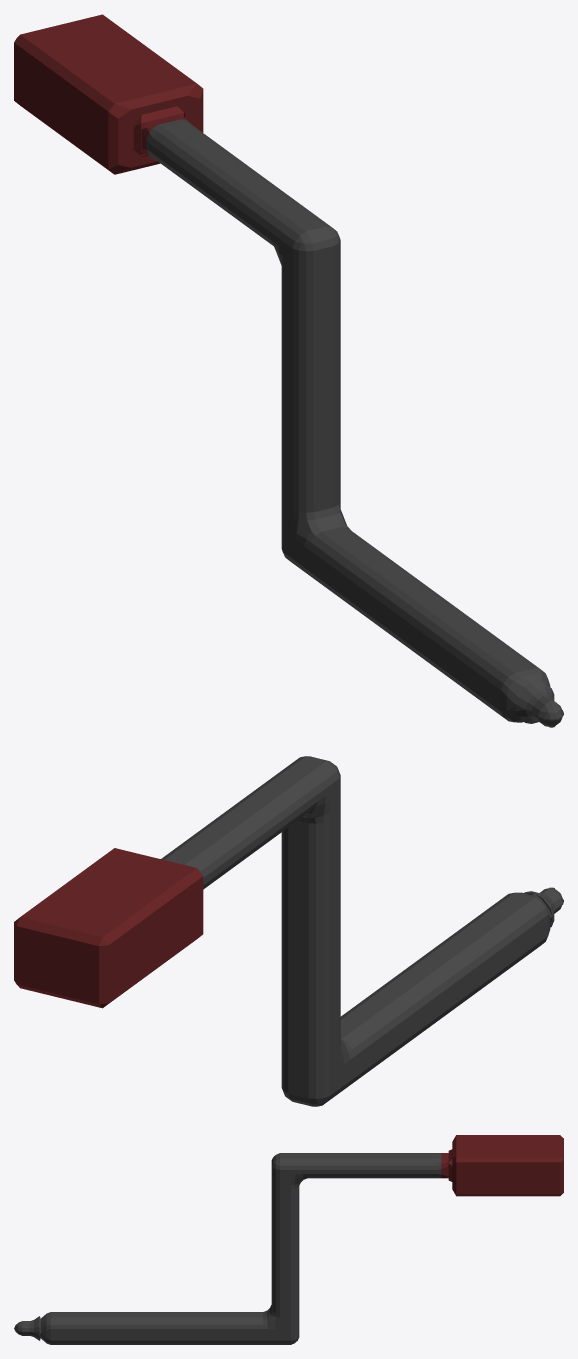
File: manivela.fbx
The picture shows the model from 3 angles, top to bottom: view 1: azimuth 30°, elevation 25°; view 2: azimuth 150°, elevation 25°; view 3: azimuth 270°, elevation 25°; orthographic projection. The views are drawn at different scales.
Visible parts, largest first — view 1: Cube.001; view 2: Cube.001; view 3: Cube.001.
Part boxes in pixels (left/top/right/bottom): Cube.001: left=14, top=14, right=563, bottom=727; Cube.001: left=14, top=756, right=563, bottom=1106; Cube.001: left=14, top=1135, right=563, bottom=1344.
Size of the model in its own units: 0.1667 by 0.5988 by 1.52.
